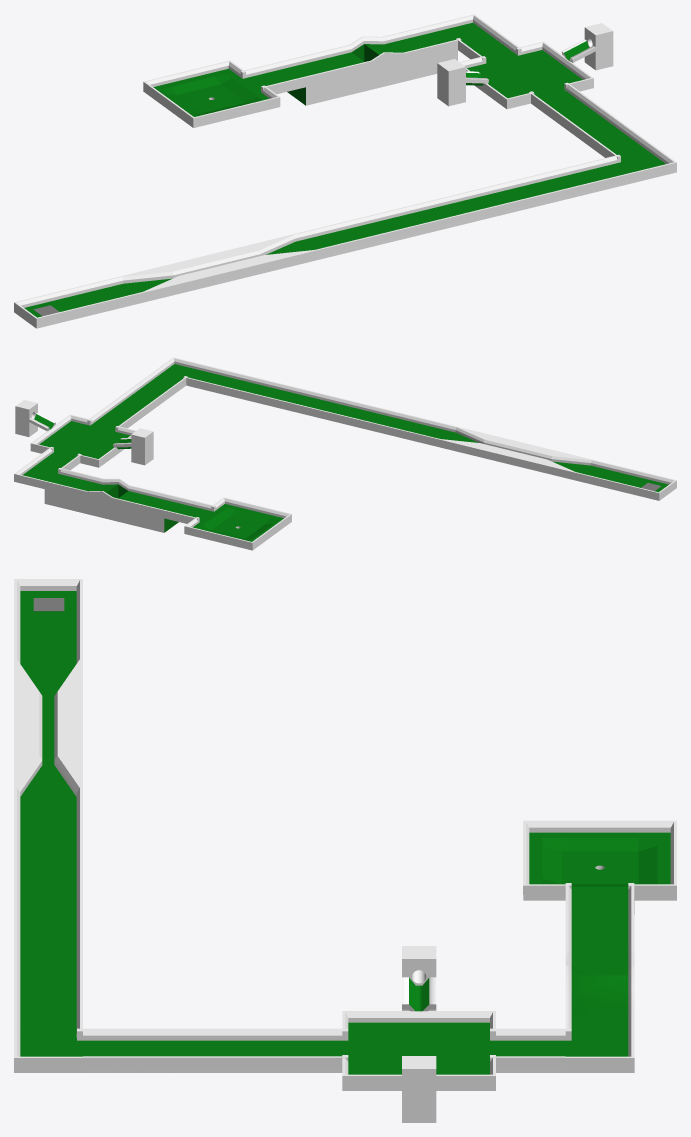
File: Level12Model.obj
3 renders of one model, top to bottom at view 1: azimuth 30°, elevation 25°; view 2: azimuth 150°, elevation 25°; view 3: azimuth 270°, elevation 25°, orthographic. The views are drawn at different scales.
Visible parts, largest first — view 1: polySurface172; view 2: polySurface172; view 3: polySurface172.
Boxes of the visible parts, bbox=[...] form: polySurface172: bbox=[14, 14, 676, 328]; polySurface172: bbox=[14, 357, 676, 550]; polySurface172: bbox=[14, 579, 676, 1122].
Size of the model in its own units: 40.44 by 2.85 by 21.55.
Materials: 3 (2 with a texture image).
